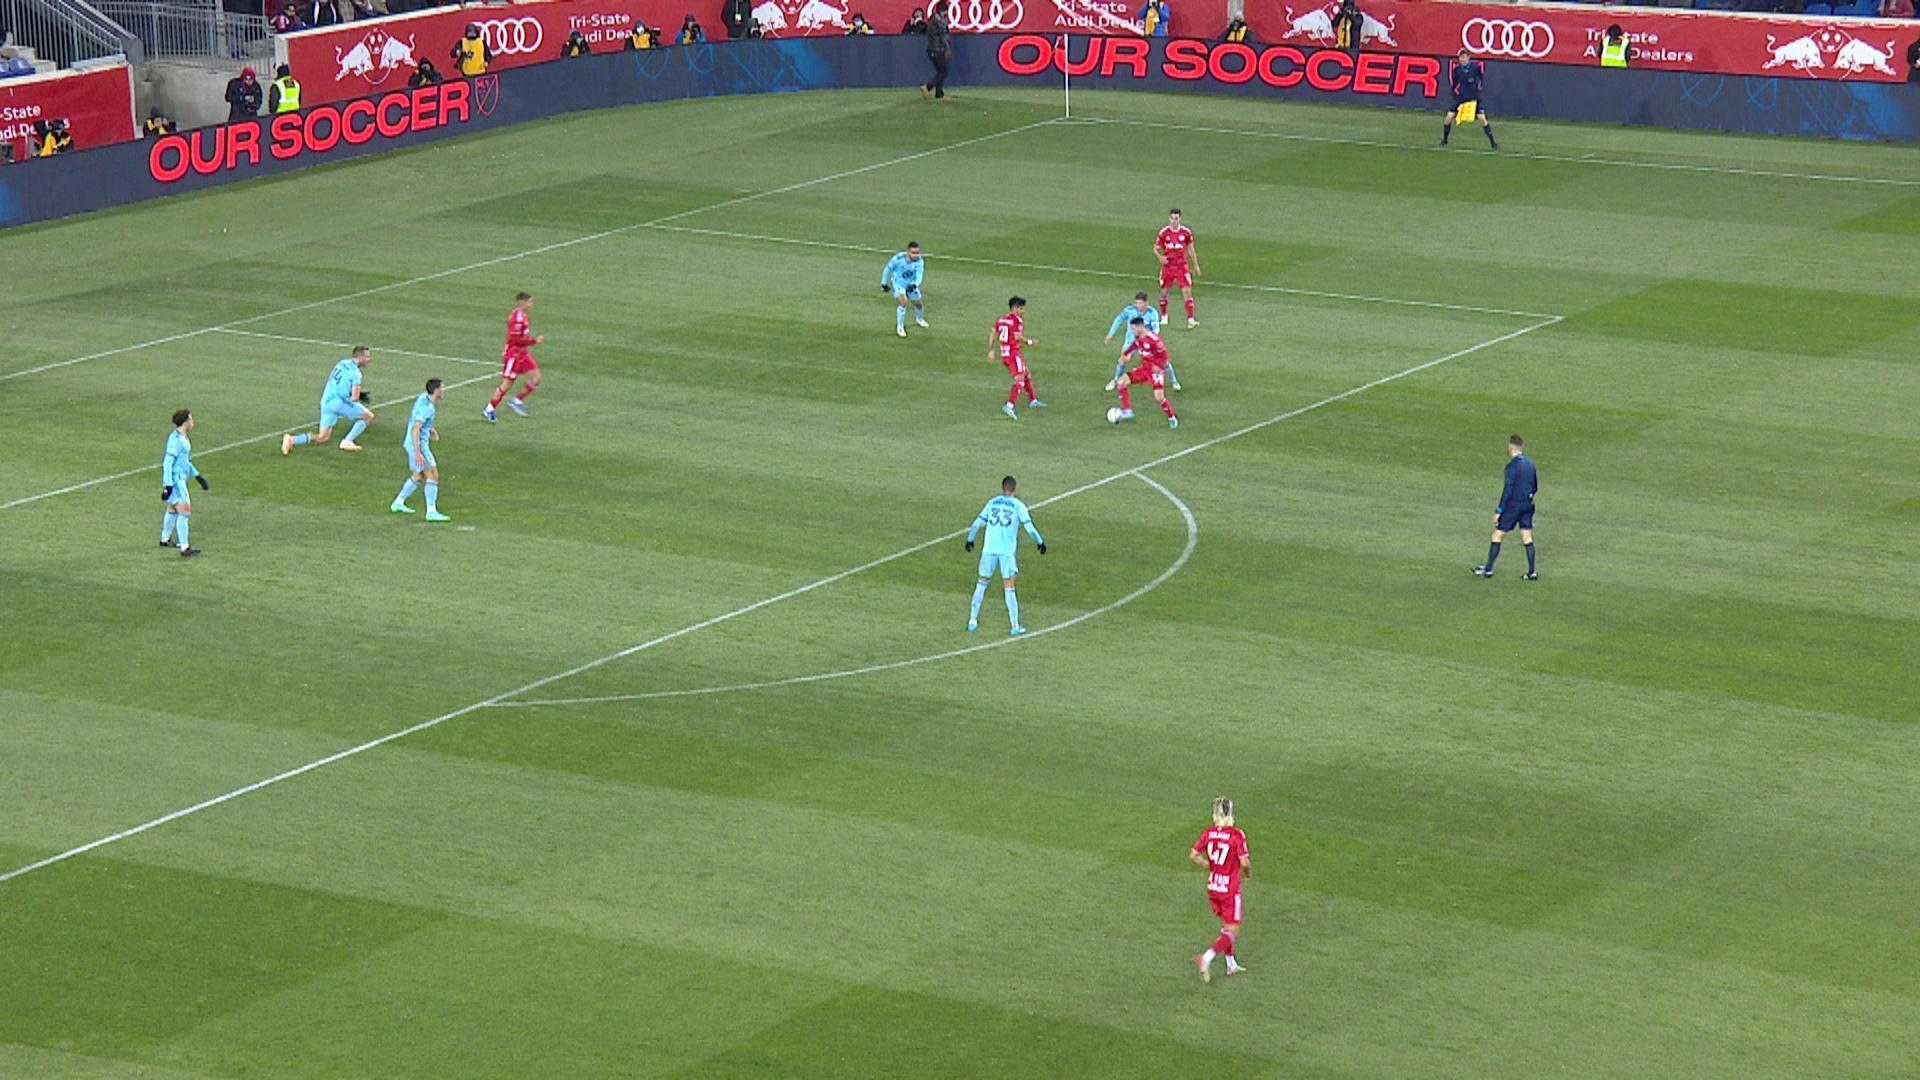football: (1106, 408, 1122, 423)
